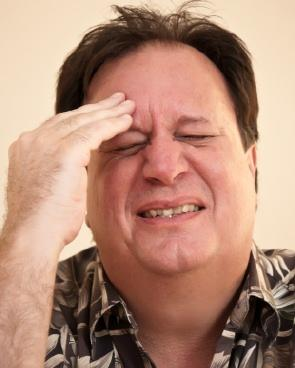stroke: (98, 96, 218, 271)
